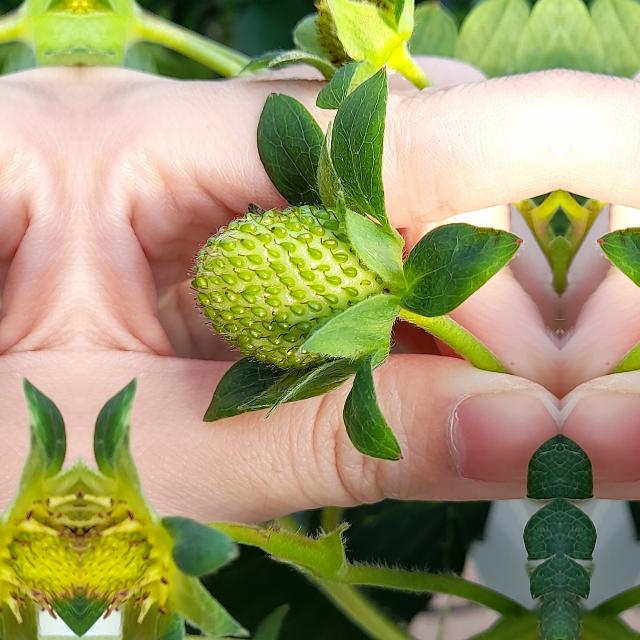Health_25: (185, 200, 391, 376)
